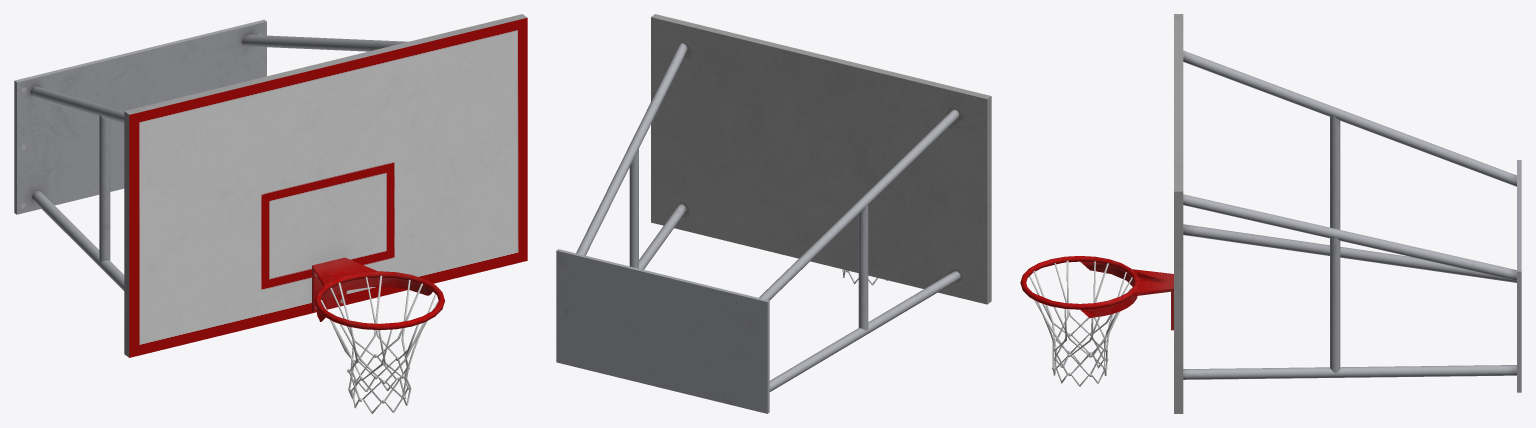
File: SportBasketHoop01.FBX
The picture shows the model from 3 angles, left to right: view 1: azimuth 30°, elevation 25°; view 2: azimuth 150°, elevation 25°; view 3: azimuth 270°, elevation 25°; orthographic projection. The views are drawn at different scales.
Parts seen in each view (by area): view 1: BasketHoop01_LOD0, BasketHoop01_PhyMetal; view 2: BasketHoop01_LOD0; view 3: BasketHoop01_LOD0, BasketHoop01_PhyMetal.
Boxes of the visible parts, x1,y1,x2,y2 form: BasketHoop01_LOD0: (14,14,527,413); BasketHoop01_PhyMetal: (312,257,439,323); BasketHoop01_LOD0: (556,14,991,413); BasketHoop01_LOD0: (1020,14,1521,413); BasketHoop01_PhyMetal: (1026,261,1173,318).
Size of what is drawn, in the model's own units: 1.8 by 1.29 by 2.14.
